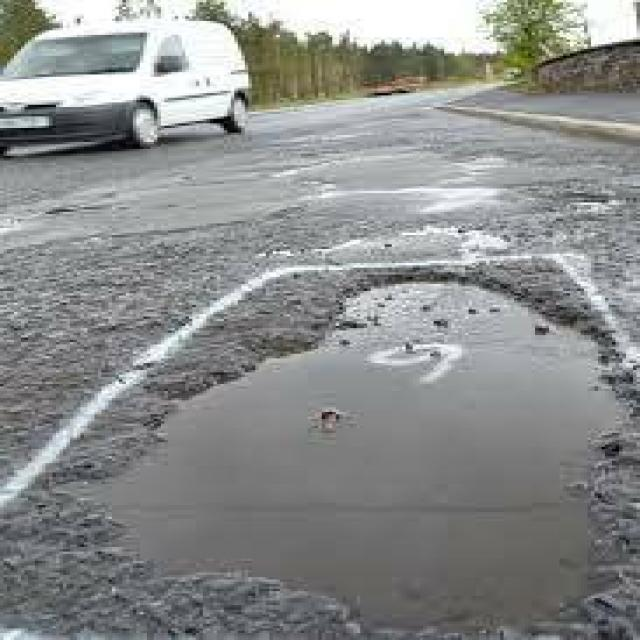Pothole: (101, 251, 640, 638)
